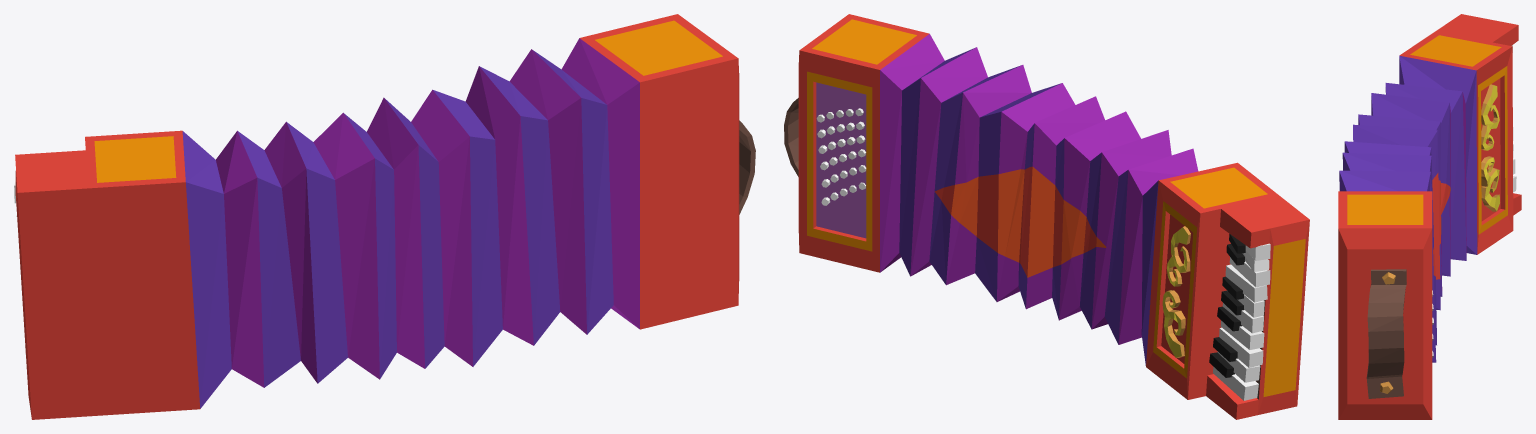
The picture shows the model from 3 angles, left to right: view 1: azimuth 30°, elevation 25°; view 2: azimuth 150°, elevation 25°; view 3: azimuth 270°, elevation 25°; orthographic projection. The views are drawn at different scales.
Parts seen in each view (by area): view 1: mesh_12838797; view 2: mesh_12838797; view 3: mesh_12838797.
Boxes of the visible parts, <box> form: mesh_12838797: <box>14,14,755,419</box>; mesh_12838797: <box>784,14,1309,419</box>; mesh_12838797: <box>1338,14,1521,419</box>.
Bounding box in the file's own units: 5.5 × 2.08 × 1.66.
